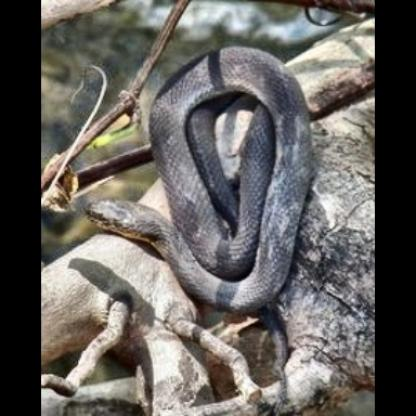Snake: (66, 17, 323, 416)
